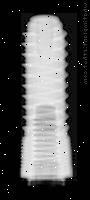Euroteknika: (19, 12, 78, 182)
